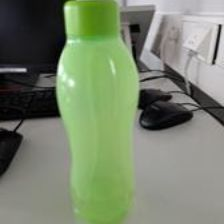bottle: (56, 1, 141, 224)
